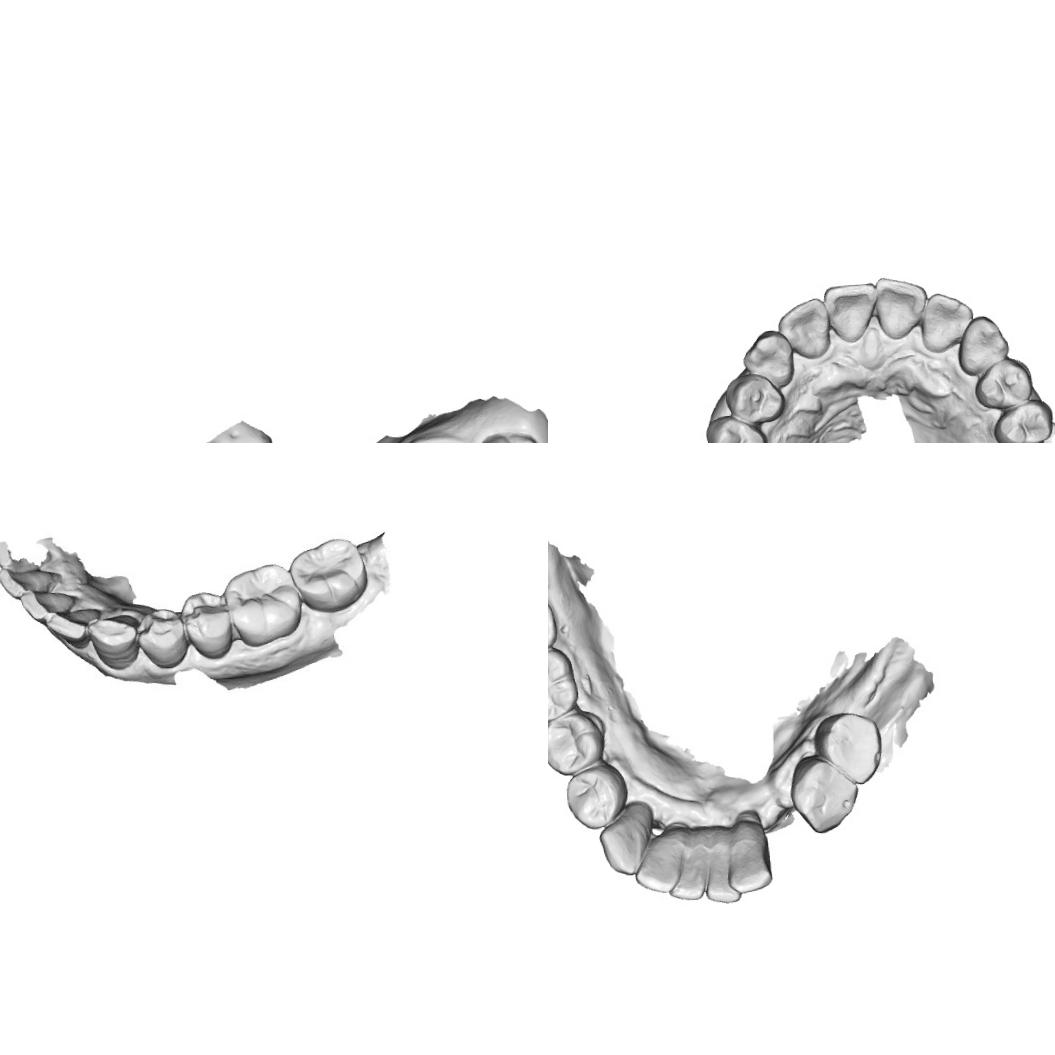canine: (595, 809, 652, 880), (954, 314, 1011, 376), (740, 328, 796, 390), (90, 614, 138, 672)
incisor: (872, 273, 930, 341), (821, 280, 879, 346), (917, 288, 975, 354), (630, 830, 688, 896), (775, 296, 832, 362), (664, 838, 714, 904), (724, 832, 774, 896), (699, 836, 742, 906), (45, 604, 94, 644), (0, 563, 51, 600), (19, 588, 76, 618)
molar: (222, 560, 306, 648), (288, 534, 372, 614), (810, 707, 887, 788), (787, 752, 860, 836), (548, 646, 581, 726)
premolar: (562, 764, 630, 832), (548, 709, 608, 778), (134, 607, 194, 672), (722, 370, 787, 426), (972, 356, 1034, 412), (181, 591, 231, 656), (990, 396, 1055, 443), (702, 411, 769, 443)
